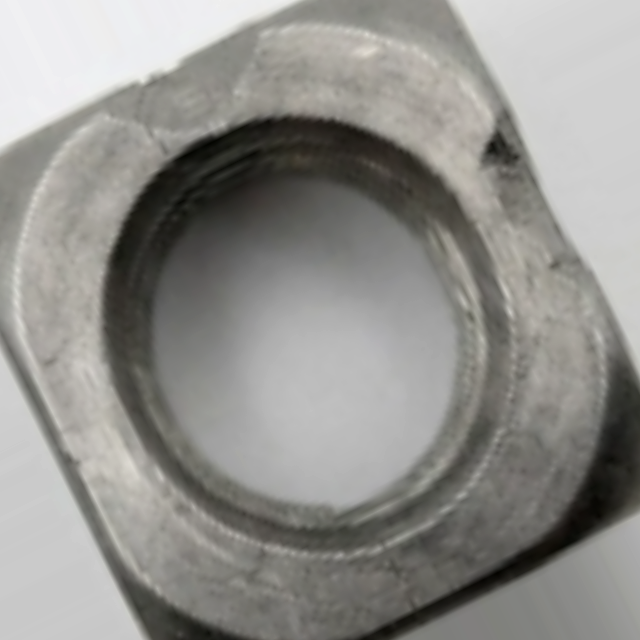defect: (464, 98, 594, 295), (102, 25, 261, 120)
